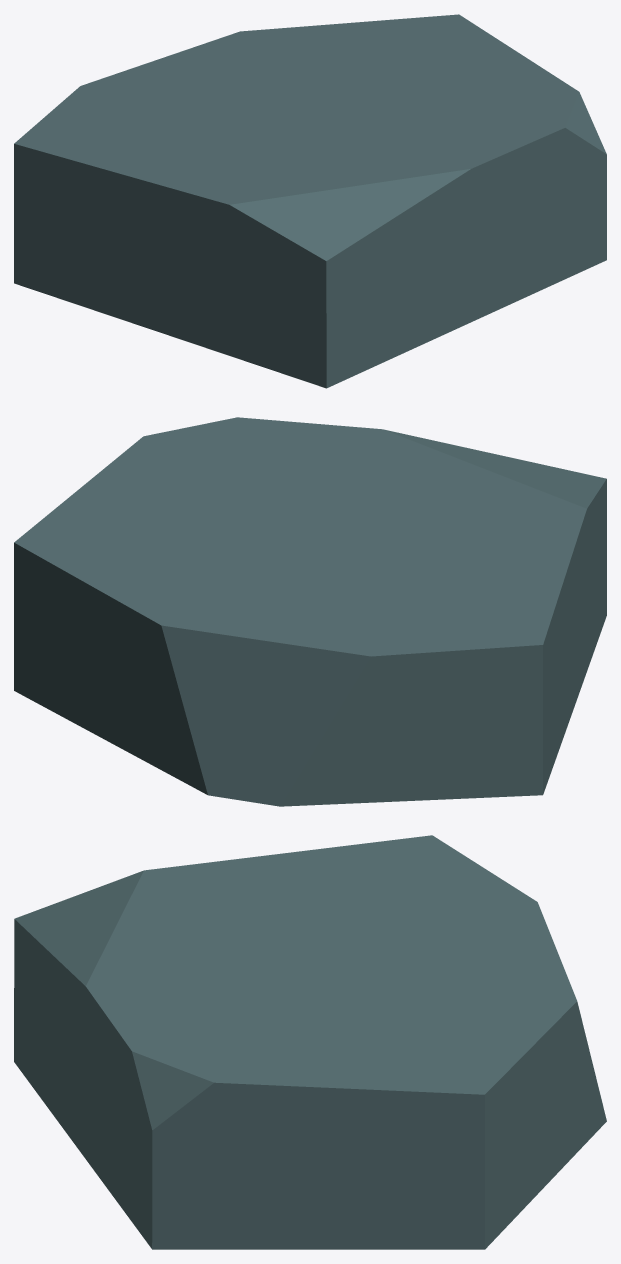
The model's file is brigesCube_008.fbx.
The picture shows the model from 3 angles, top to bottom: view 1: azimuth 30°, elevation 25°; view 2: azimuth 150°, elevation 25°; view 3: azimuth 270°, elevation 25°; orthographic projection. The views are drawn at different scales.
Visible parts, largest first — view 1: Cube.008; view 2: Cube.008; view 3: Cube.008.
Part boxes in pixels (<box>): Cube.008: <box>14,14,606,388</box>; Cube.008: <box>14,417,606,806</box>; Cube.008: <box>14,835,606,1249</box>.
Bounding box in the file's own units: 78.98 × 24.78 × 76.96.
